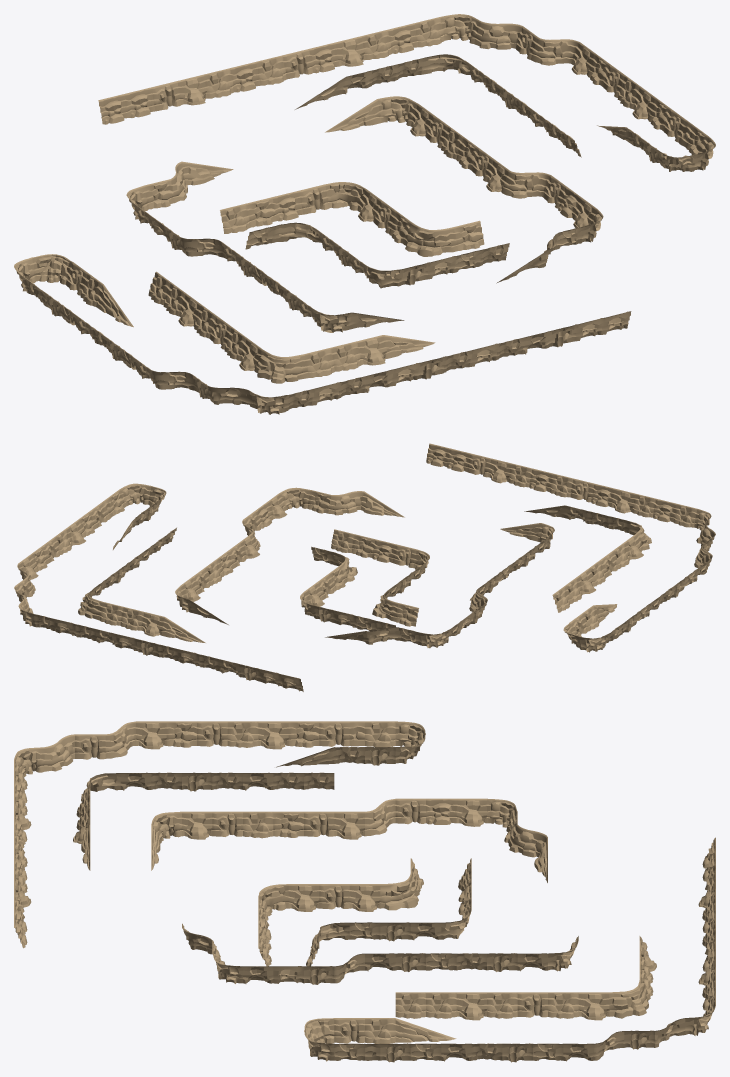
File: map_cliffs.fbx
The picture shows the model from 3 angles, top to bottom: view 1: azimuth 30°, elevation 25°; view 2: azimuth 150°, elevation 25°; view 3: azimuth 270°, elevation 25°; orthographic projection. The views are drawn at different scales.
Parts seen in each view (by area): view 1: cliffs; view 2: cliffs; view 3: cliffs.
Part boxes in pixels (x1,y1,x2,y2): cliffs: (14, 14, 715, 414); cliffs: (14, 443, 715, 691); cliffs: (14, 721, 715, 1062).
Bounding box in the file's own units: 5000 × 301 × 4600.
